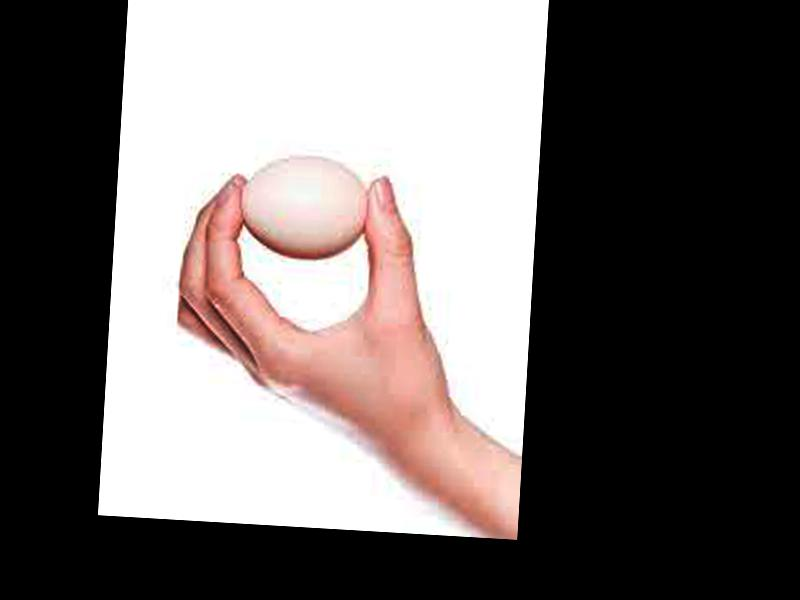Eggs: (236, 152, 372, 262)
